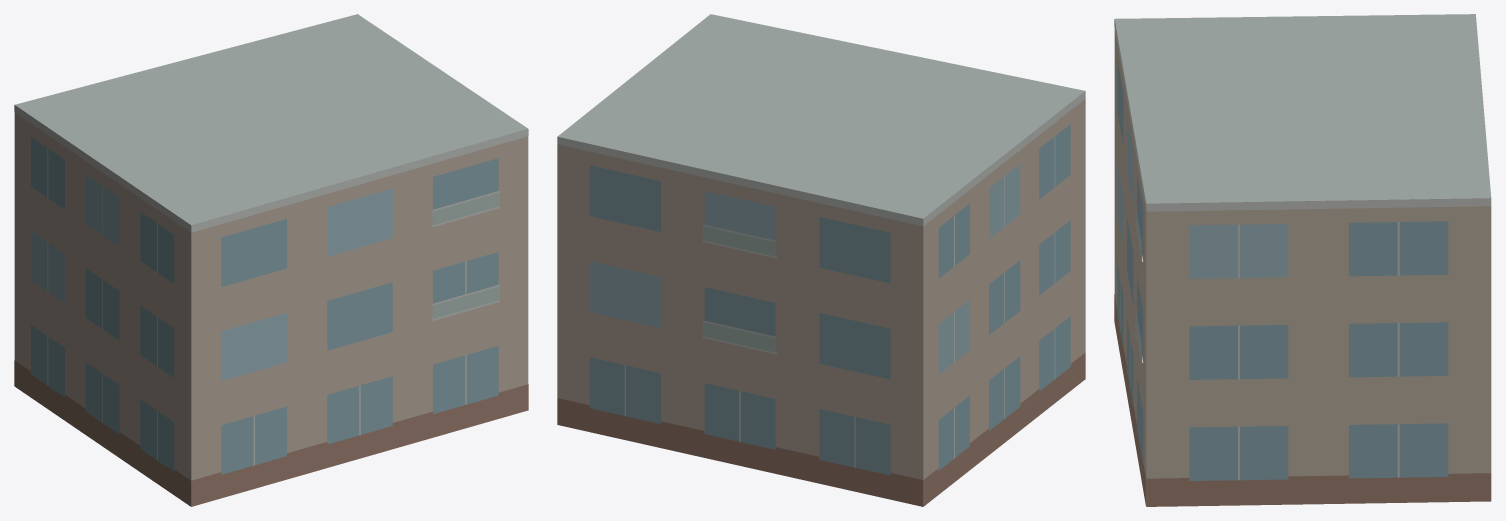
Rendered from survey-upis-32703169.glb.
The picture shows the model from 3 angles, left to right: view 1: azimuth 30°, elevation 25°; view 2: azimuth 150°, elevation 25°; view 3: azimuth 270°, elevation 25°; orthographic projection. The views are drawn at different scales.
Visible parts, largest first — view 1: survey-upis-32703169.tmp; view 2: survey-upis-32703169.tmp; view 3: survey-upis-32703169.tmp.
Part boxes in pixels (left/top/right/bottom): survey-upis-32703169.tmp: left=14, top=14, right=528, bottom=506; survey-upis-32703169.tmp: left=557, top=14, right=1085, bottom=506; survey-upis-32703169.tmp: left=1114, top=14, right=1491, bottom=506.
Size of the model in its own units: 12.28 by 9.15 by 10.31.
